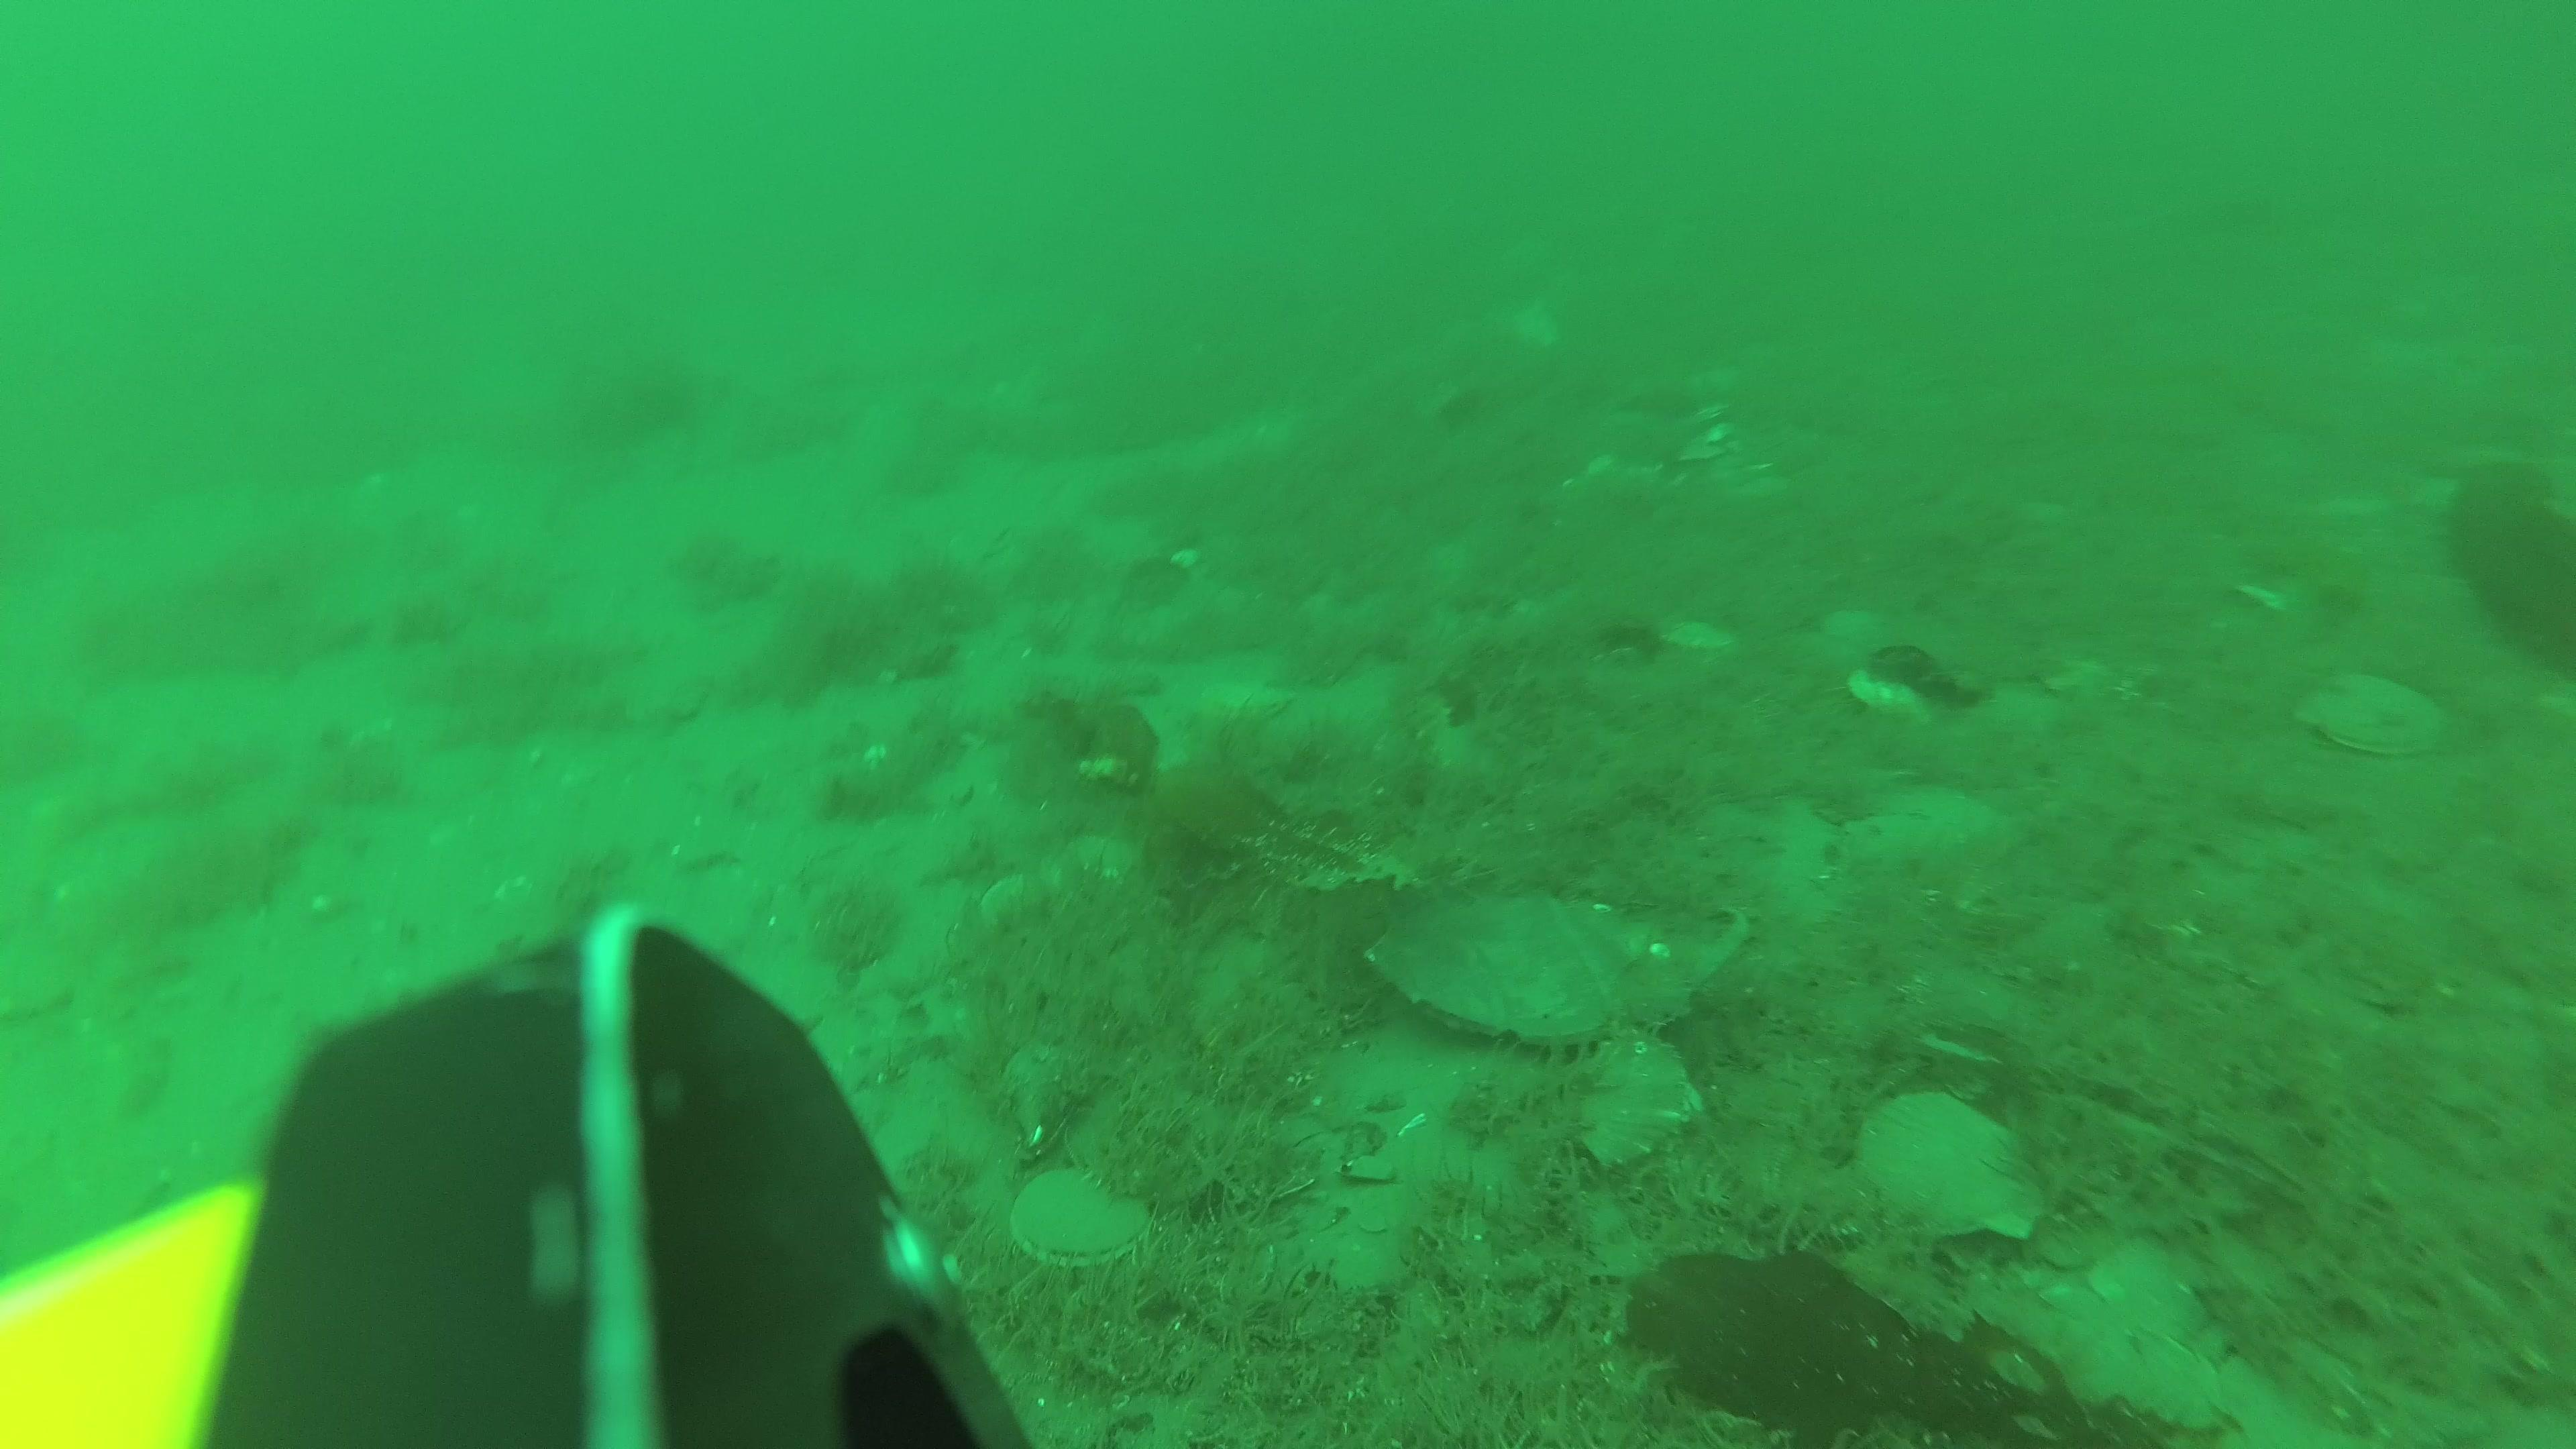scallop: (1863, 1088, 2054, 1238), (1568, 1024, 1693, 1164), (1014, 1168, 1152, 1265), (2302, 672, 2445, 761), (1845, 665, 1923, 718)
